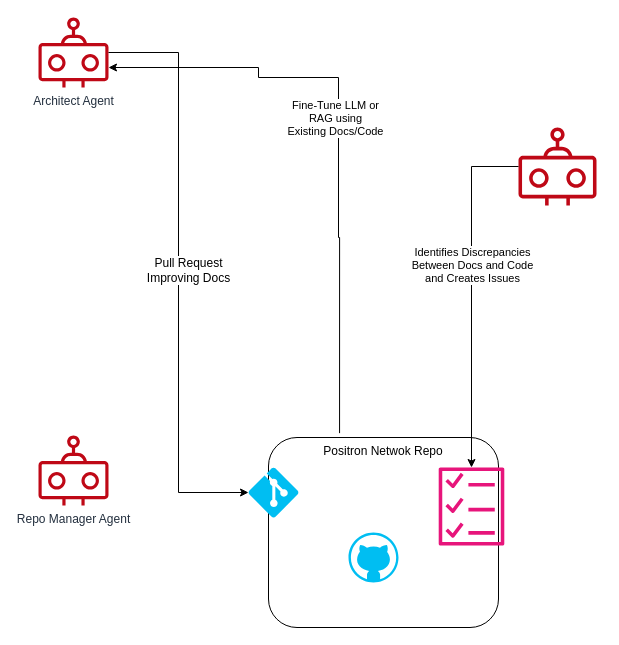
The diagram is 619 pixels wide and 645 high, and some of its shapes have lost their labels. Here are the shapes that lost their labels. From the top down, the centre of each, then its label:
At (x=557, y=166): "Project Manager".
At (x=373, y=557): "Positron Network Repo".
